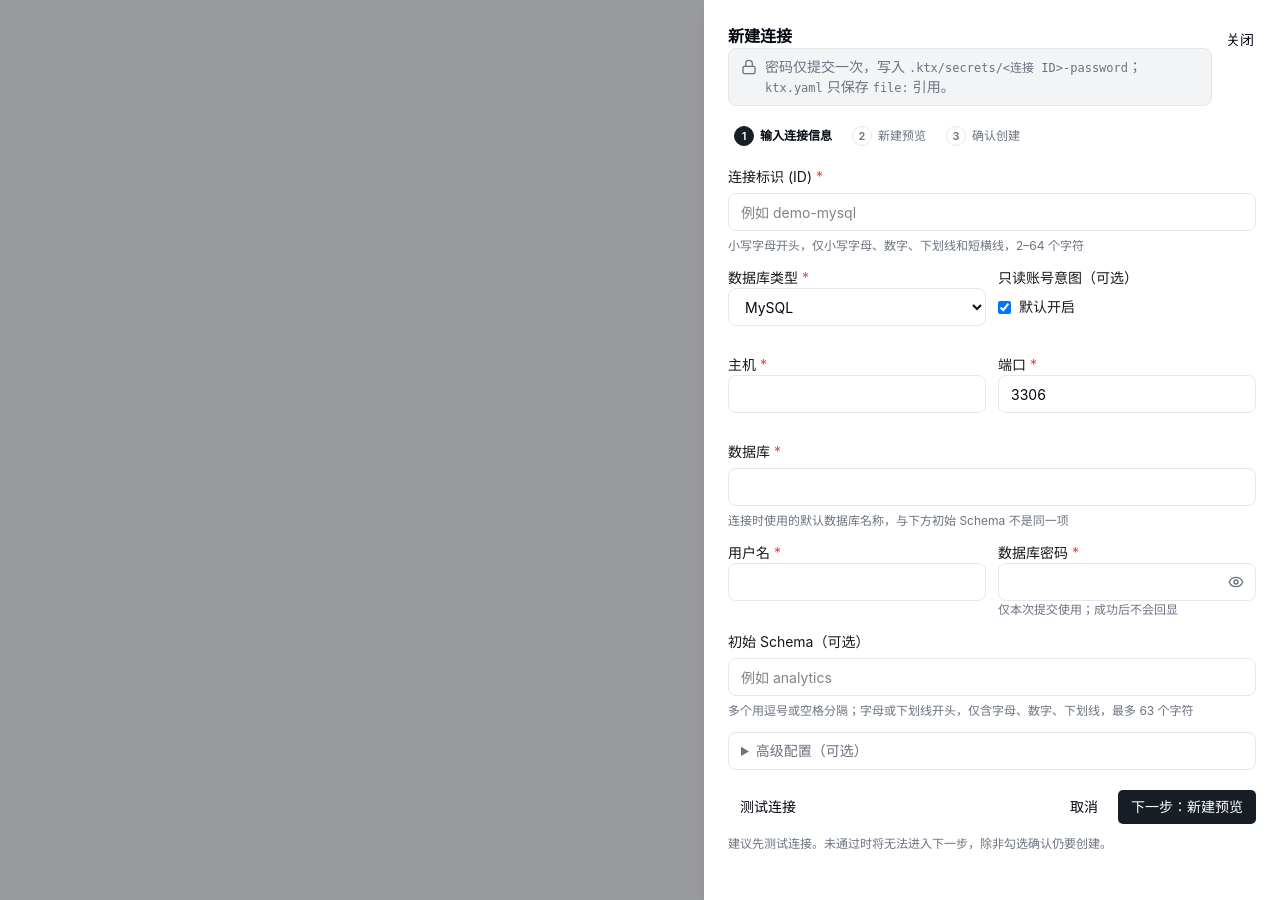
Test: CreateConnectionDrawer › blocks preview until required fields are filled
Step 1. Click the button with test id "create-connection-preview-btn" → click(1187, 807), box [1118,790,1256,824]
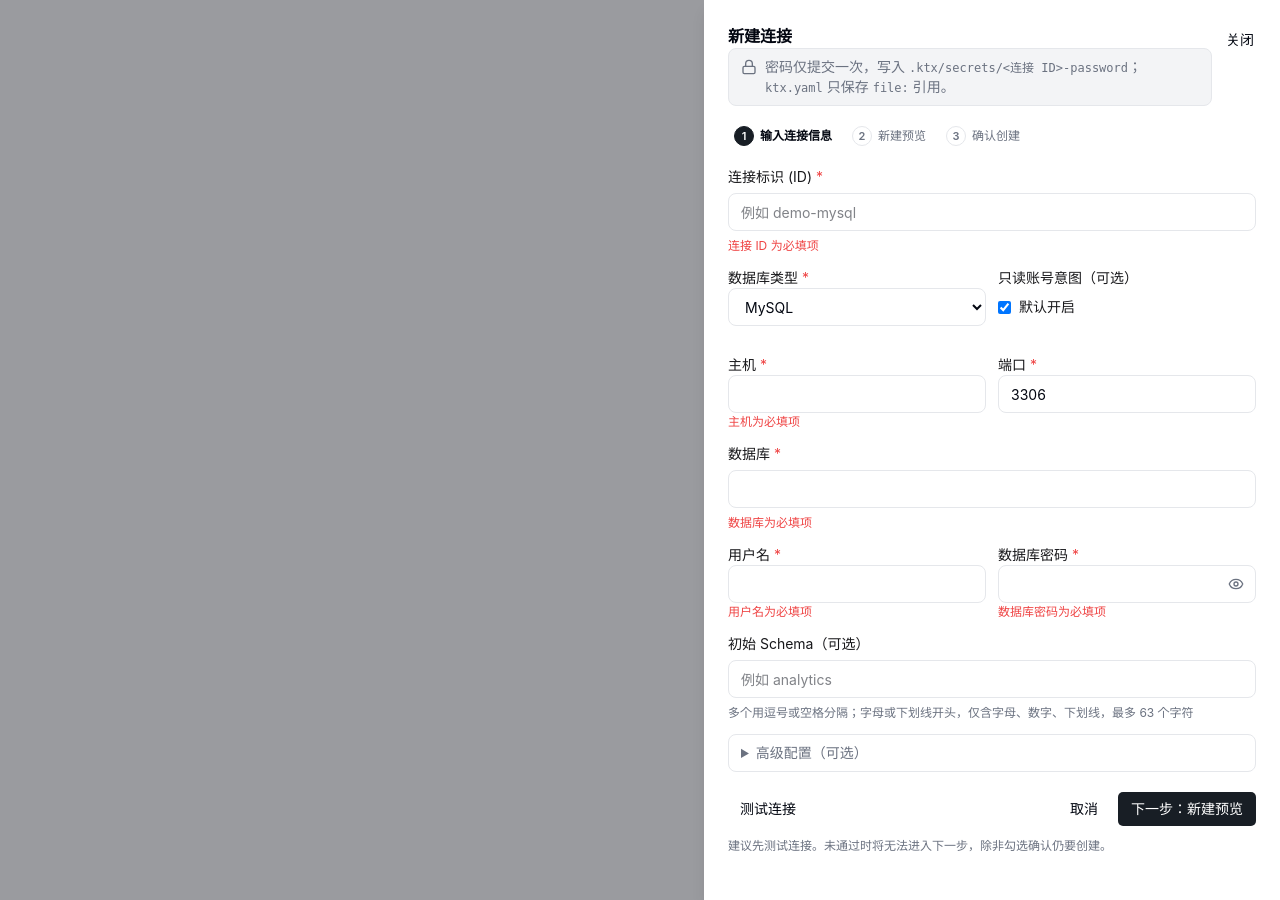
Now the text "连接 ID 为必填项" is shown, box [728,238,819,253]
Now the text "主机为必填项" is shown, box [728,414,800,429]
Now the text "数据库为必填项" is shown, box [728,515,812,530]
